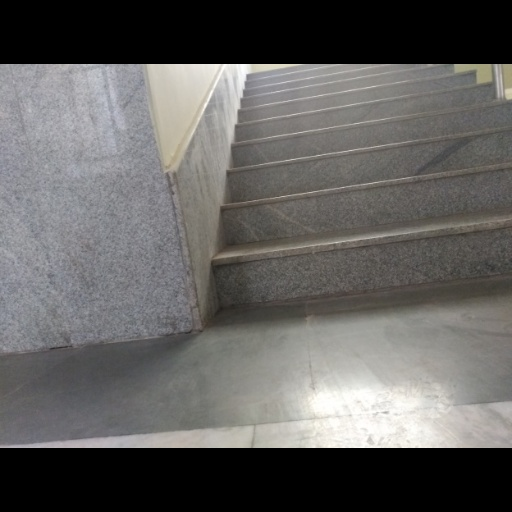Stairs: (212, 65, 512, 306)
